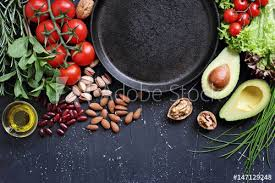Tomato: (32, 22, 62, 45), (72, 44, 97, 64), (56, 66, 81, 83), (224, 9, 237, 23), (231, 24, 242, 35)
